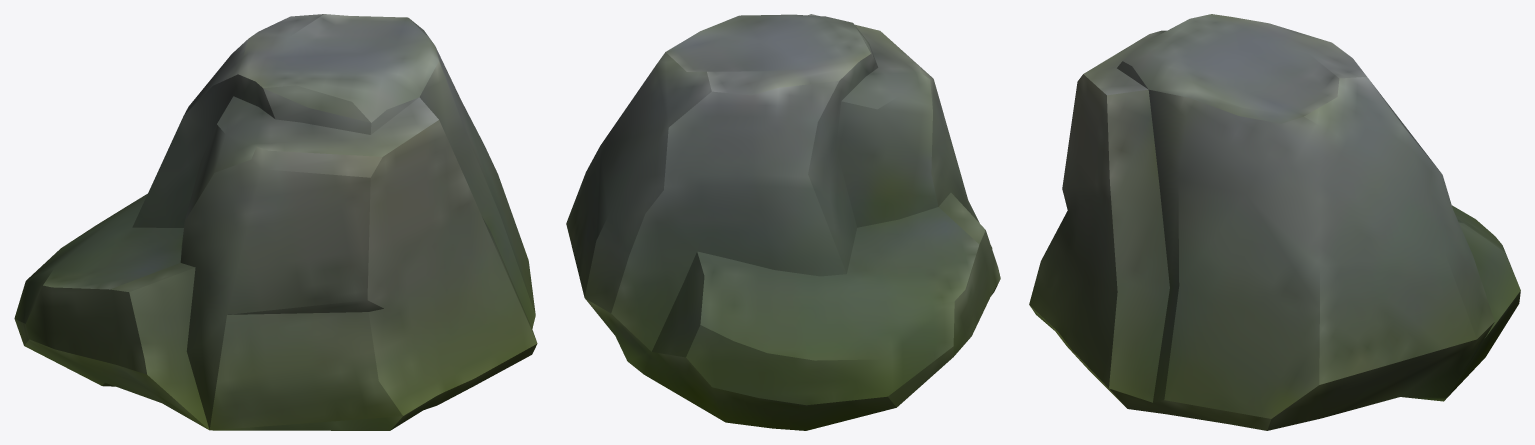
Rendered from Rock_Medium_1.glb.
3 renders of one model, left to right at view 1: azimuth 30°, elevation 25°; view 2: azimuth 150°, elevation 25°; view 3: azimuth 270°, elevation 25°, orthographic. The views are drawn at different scales.
Parts seen in each view (by area): view 1: Rock_Medium_1; view 2: Rock_Medium_1; view 3: Rock_Medium_1.
Boxes of the visible parts, left/top/right/bottom form: Rock_Medium_1: left=14, top=14, right=537, bottom=430; Rock_Medium_1: left=566, top=14, right=1000, bottom=430; Rock_Medium_1: left=1029, top=14, right=1520, bottom=430.
Size of the model in its own units: 3.23 by 2.26 by 2.99.
1 material, 1 textured.
